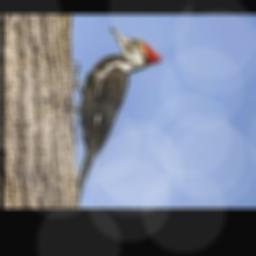Woodpecker: (71, 26, 162, 202)
